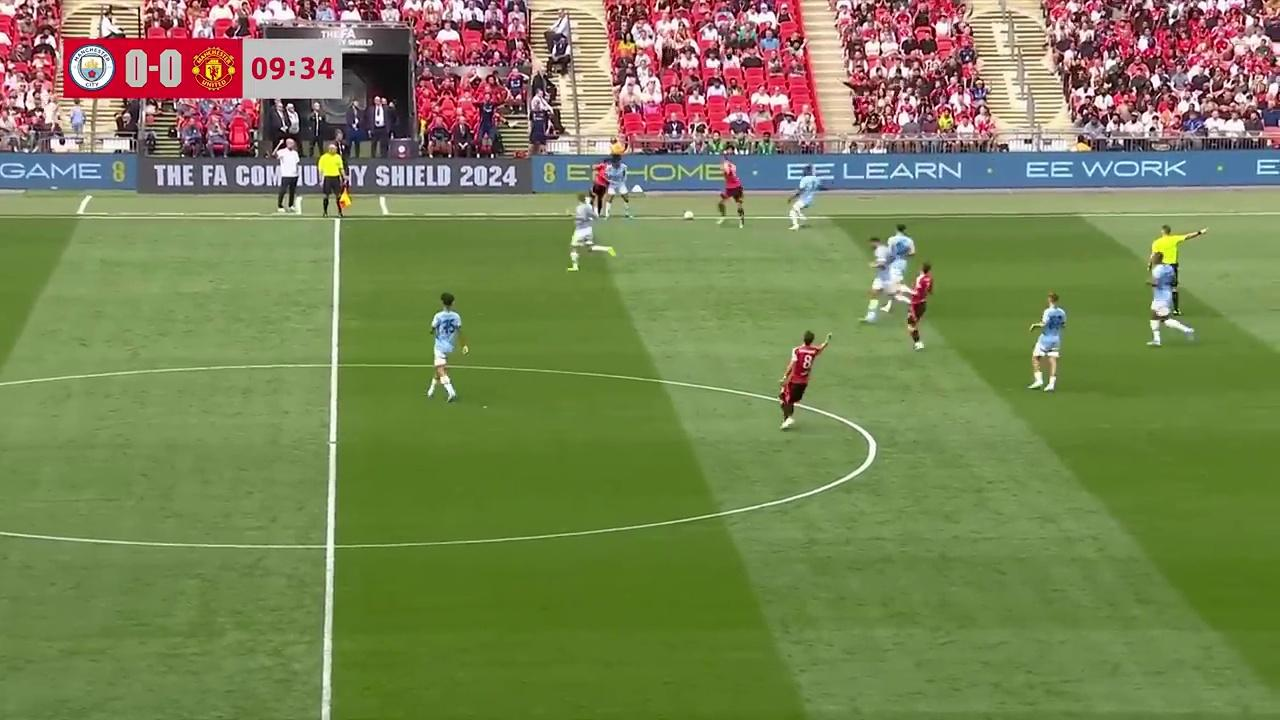ball: (682, 207, 695, 221)
player: (778, 331, 829, 428), (1146, 259, 1194, 347), (425, 294, 463, 403), (863, 233, 908, 321), (1027, 291, 1066, 392), (873, 224, 915, 304), (567, 195, 611, 271), (904, 265, 933, 350), (716, 157, 743, 225), (606, 154, 634, 219), (789, 170, 815, 229), (586, 165, 613, 218)
referee: (1147, 225, 1191, 279), (319, 143, 350, 218)
